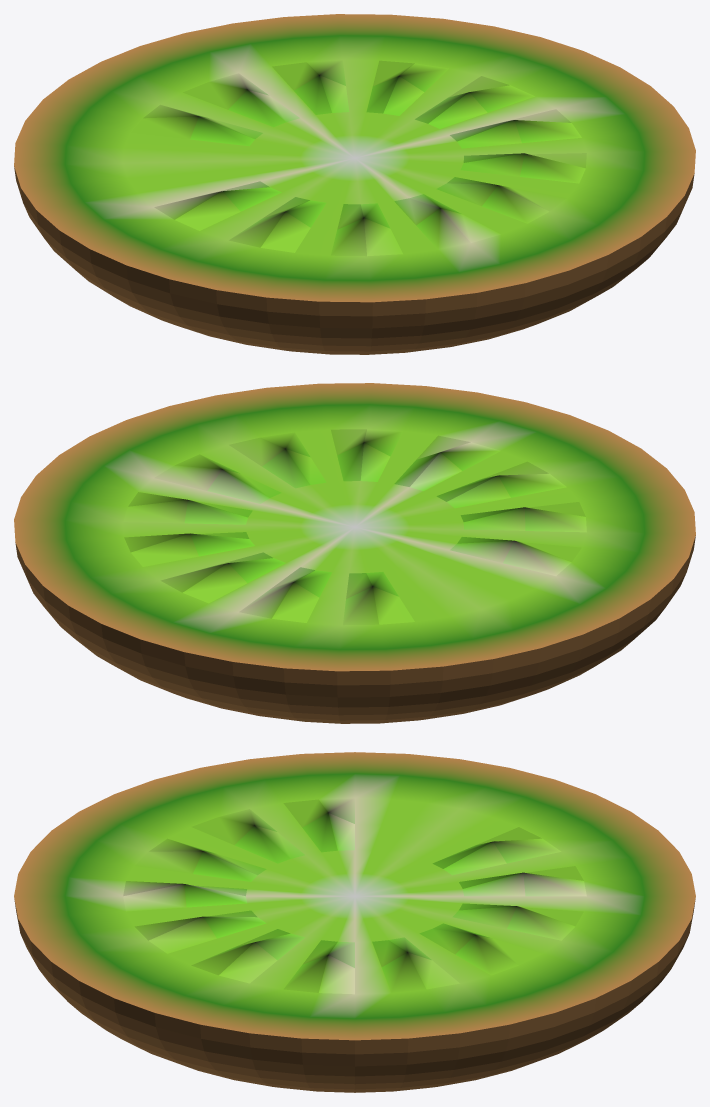
Rendered from Kiwi_Cut.glb.
The picture shows the model from 3 angles, top to bottom: view 1: azimuth 30°, elevation 25°; view 2: azimuth 150°, elevation 25°; view 3: azimuth 270°, elevation 25°; orthographic projection.
Visible parts, largest first — view 1: Kiwi_Cut; view 2: Kiwi_Cut; view 3: Kiwi_Cut.
Part boxes in pixels (x1,y1,x2,y2): Kiwi_Cut: [14, 14, 695, 354]; Kiwi_Cut: [14, 383, 695, 723]; Kiwi_Cut: [14, 752, 695, 1092].
Size of the model in its own units: 0.6 by 0.142 by 0.6.
